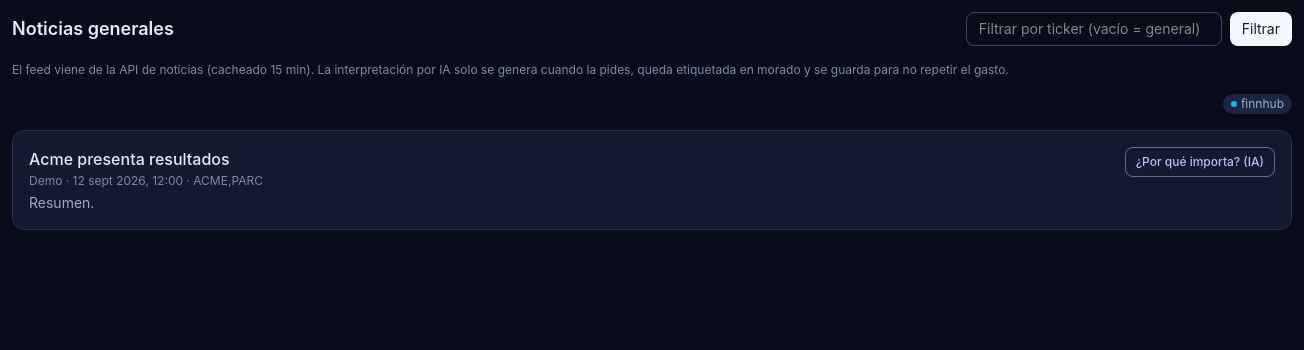
Scenario: contenido de IA › Noticias pinta la interpretación con los colores de IA y el primer ticker
Click the button "¿Por qué importa? (IA)" at x=1200, y=162, box [1125,147,1275,177]
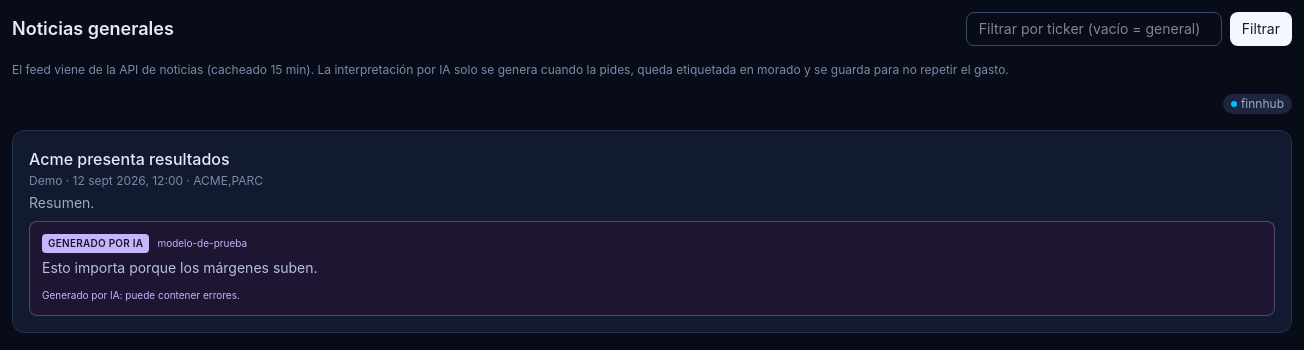
Now the element that starts with "Generado por IA" is shown, box [29,221,1275,316]
Now the element that starts with "Generado por IA" shows "modelo-de-prueba", box [157,237,247,249]
Now the element that starts with "Generado por IA" shows "los márgenes suben", box [42,259,318,276]
